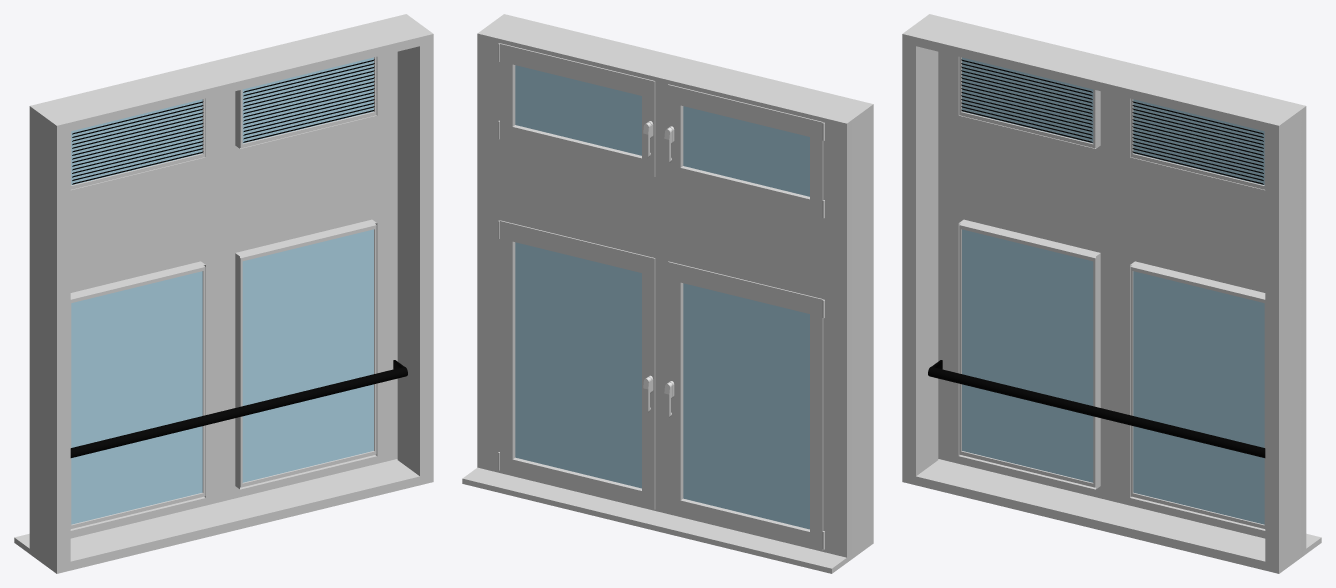
Rendered from IAIWindowTypeA.dae.
3 views of the same model, side by side, from view 1: azimuth 30°, elevation 25°; view 2: azimuth 150°, elevation 25°; view 3: azimuth 330°, elevation 25° (orthographic).
Visible parts, largest first — view 1: SM_IAIWindowTypeA; view 2: SM_IAIWindowTypeA; view 3: SM_IAIWindowTypeA.
Part boxes in pixels (x1=…): SM_IAIWindowTypeA: x1=14, y1=14, x2=433, y2=573; SM_IAIWindowTypeA: x1=462, y1=14, x2=873, y2=573; SM_IAIWindowTypeA: x1=902, y1=14, x2=1321, y2=573.
Size of the model in its own units: 2.2 by 0.43 by 2.5.
